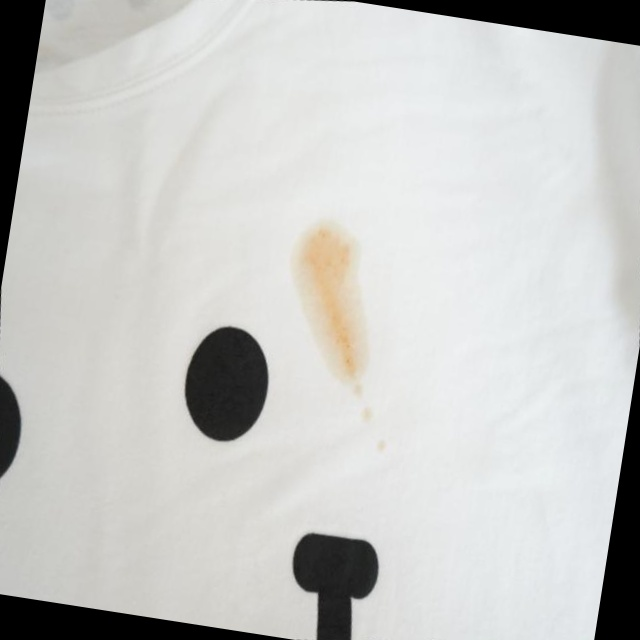kimchi: (260, 209, 426, 448)
